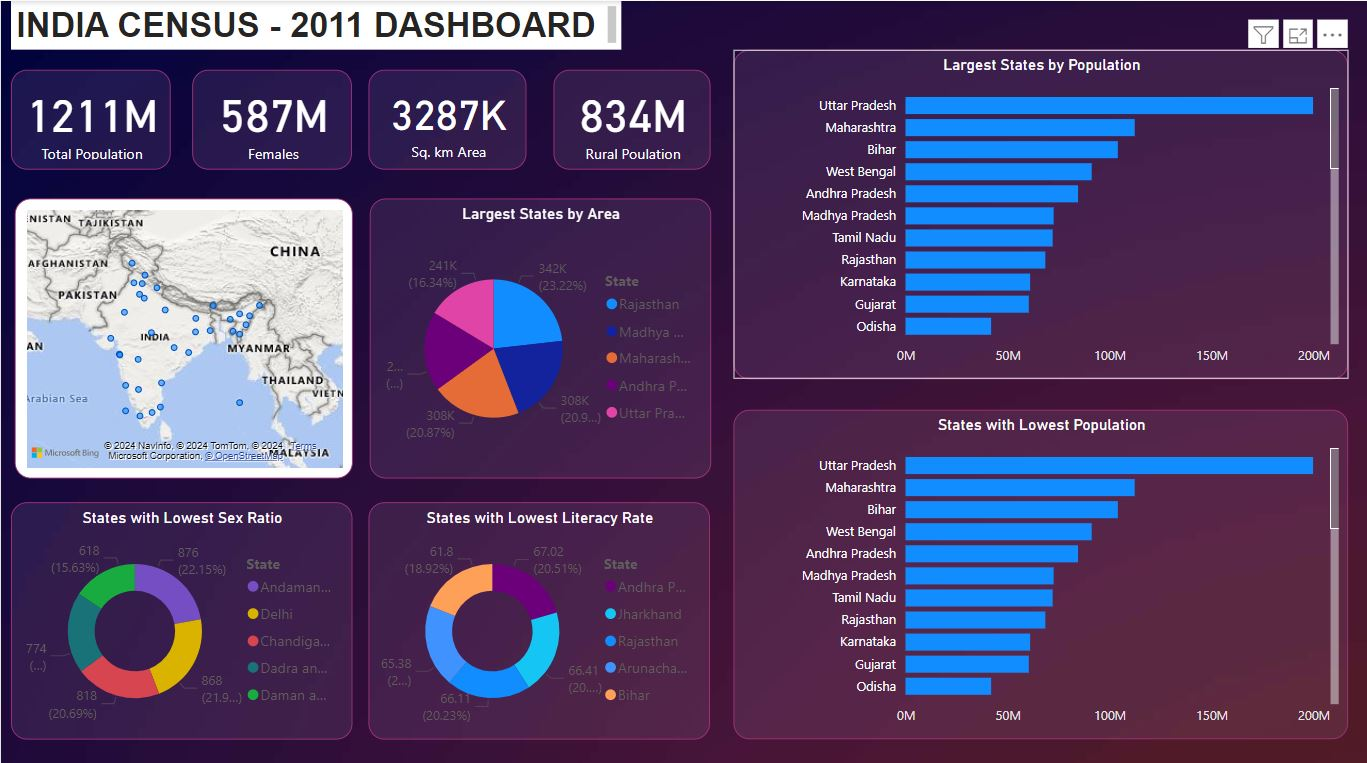

This screenshot's page, from the dashboard's own definition file:
{"tool":"powerbi","page":{"name":"Page 1","canvas":[1280,720],"ordinal":0},"visuals":[{"type":"textbox","box":[9.6,0,572.2,45.3],"z":0},{"type":"barChart","title":"Largest States by Population","fields":{"Category":["population.State"],"Y":["Sum(population.Population)"]},"box":[686.1,45.3,576.3,308.7],"z":1000},{"type":"donutChart","title":"States with Lowest Literacy Rate","fields":{"Category":["population.State"],"Y":["Sum(population.Literacy Rate (%))"]},"box":[344.4,469.3,319.7,222.3],"z":2000},{"type":"donutChart","title":"States with Lowest Sex Ratio","fields":{"Category":["population.State"],"Y":["Sum(population.Sex Ratio)"]},"box":[9.6,469.3,319.7,222.3],"z":3000},{"type":"barChart","title":"States with Lowest Population","fields":{"Category":["population.State"],"Y":["Sum(population.Population)"]},"box":[686.1,382.8,576.3,308.7],"z":4000},{"type":"map","fields":{"Category":["population.State"]},"box":[12.3,185.2,317,262.1],"z":5000},{"type":"card","fields":{"Values":["Sum(population.Population)"]},"box":[9.6,64.5,149.6,93.3],"z":6000},{"type":"card","fields":{"Values":["Sum(population.Area (km*km))"]},"box":[344.4,64.5,148.2,93.3],"z":7000},{"type":"card","fields":{"Values":["Sum(population.Females)"]},"box":[179.8,64.5,149.6,93.3],"z":8000},{"type":"card","fields":{"Values":["Sum(population.Rural Population)"]},"box":[517.3,64.5,146.8,93.3],"z":9000},{"type":"pieChart","title":"Largest States by Area","fields":{"Category":["population.State"],"Y":["Sum(population.Area (km*km))"]},"box":[345.8,185.2,319.7,262.1],"z":10000}]}

Visuals, with their boxes in screenshot pixels (x1, y1, x2, y2), scaled from the page's 1280x720 canvas onto the 1367x763 screenshot:
textbox: x1=10, y1=0, x2=621, y2=48
"Largest States by Population" barChart: x1=733, y1=48, x2=1348, y2=375
"States with Lowest Literacy Rate" donutChart: x1=368, y1=497, x2=709, y2=733
"States with Lowest Sex Ratio" donutChart: x1=10, y1=497, x2=352, y2=733
"States with Lowest Population" barChart: x1=733, y1=406, x2=1348, y2=733
map - population.State: x1=13, y1=196, x2=352, y2=474
card - Sum(population.Population): x1=10, y1=68, x2=170, y2=167
card - Sum(population.Area (km*km)): x1=368, y1=68, x2=526, y2=167
card - Sum(population.Females): x1=192, y1=68, x2=352, y2=167
card - Sum(population.Rural Population): x1=552, y1=68, x2=709, y2=167
"Largest States by Area" pieChart: x1=369, y1=196, x2=711, y2=474
